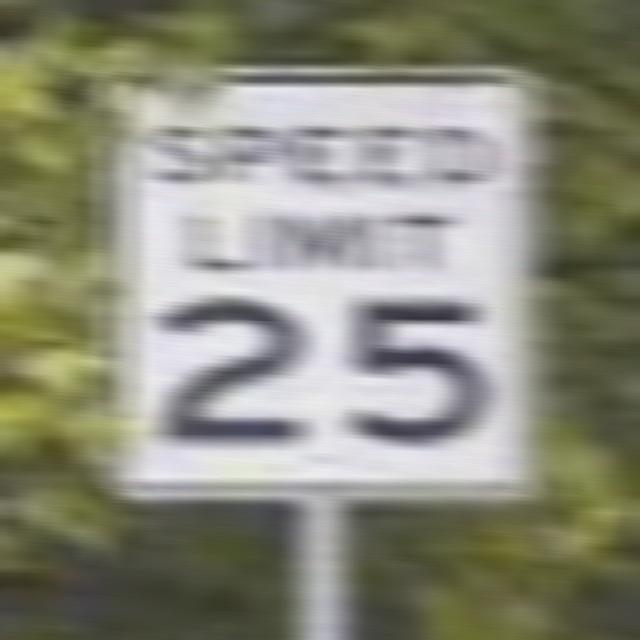speedLimit25: (95, 57, 561, 506)
